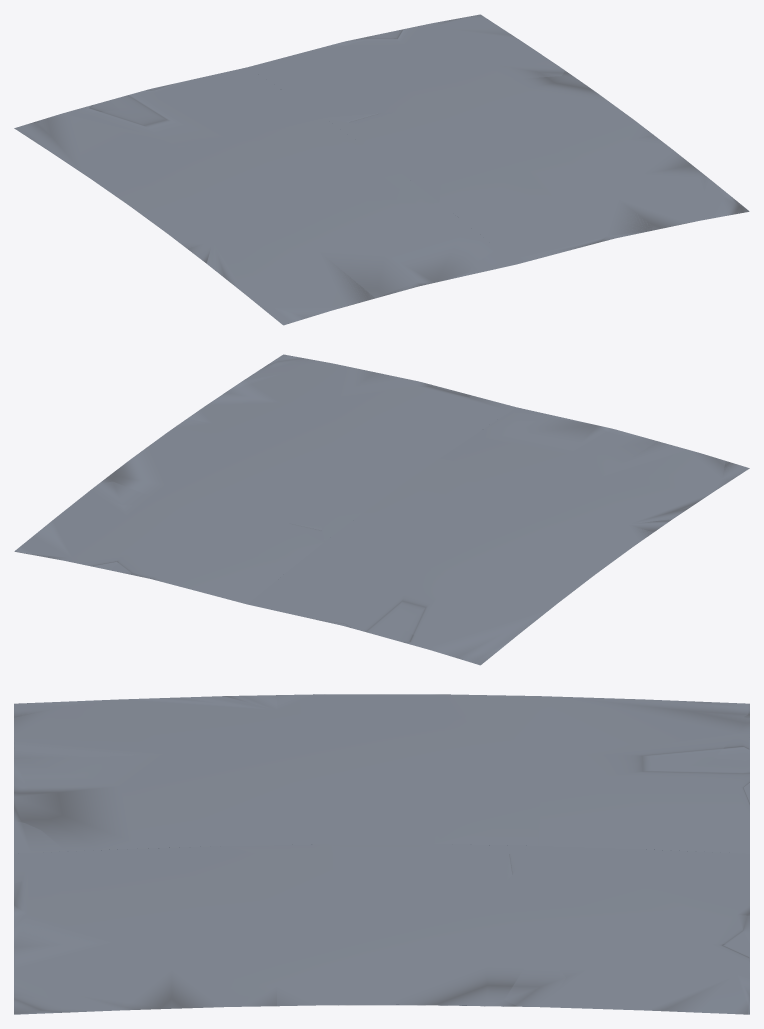
The model's file is panoramic_roof_glass.glb.
The picture shows the model from 3 angles, top to bottom: view 1: azimuth 30°, elevation 25°; view 2: azimuth 150°, elevation 25°; view 3: azimuth 270°, elevation 25°; orthographic projection. The views are drawn at different scales.
Visible parts, largest first — view 1: GEO_Panoramic_Roof_Glass; view 2: GEO_Panoramic_Roof_Glass; view 3: GEO_Panoramic_Roof_Glass.
Part boxes in pixels (x1,y1,x2,y2): GEO_Panoramic_Roof_Glass: (14,14,749,325); GEO_Panoramic_Roof_Glass: (14,354,749,665); GEO_Panoramic_Roof_Glass: (14,694,749,1014).
Size of the model in its own units: 0.96 by 0.0237 by 0.96.
